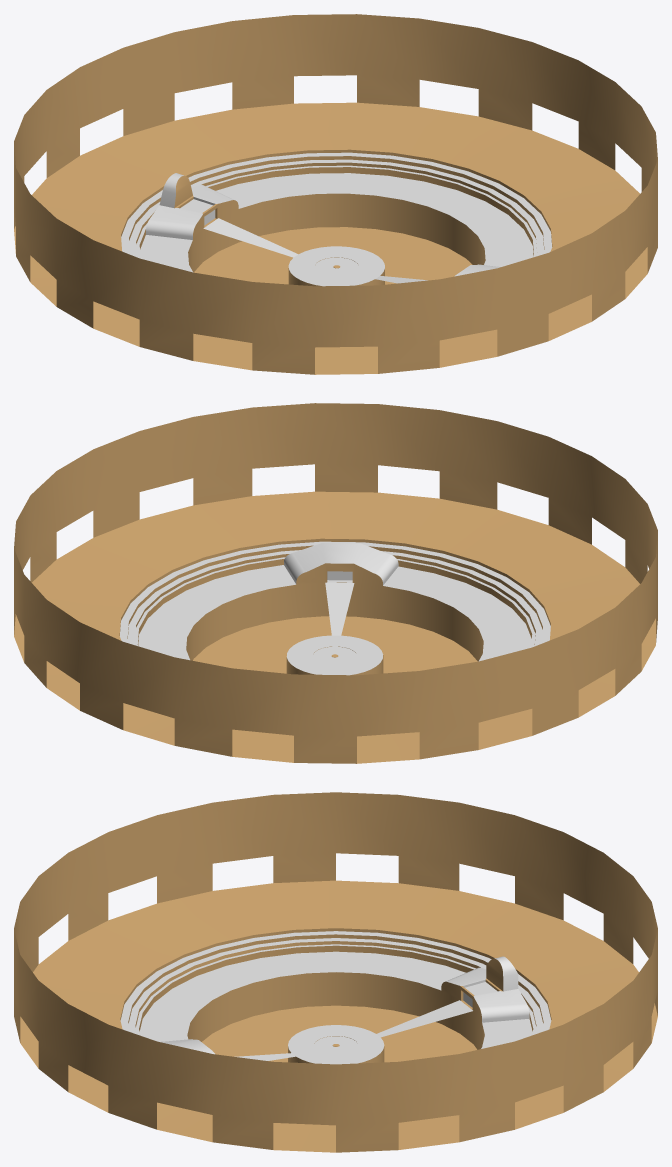
File: Gladiator.fbx
3 views of the same model, one above another, from view 1: azimuth 30°, elevation 25°; view 2: azimuth 150°, elevation 25°; view 3: azimuth 270°, elevation 25° (orthographic).
Parts seen in each view (by area): view 1: Gladiator; view 2: Gladiator; view 3: Gladiator.
Part boxes in pixels (<box>): Gladiator: <box>14,14,657,374</box>; Gladiator: <box>14,403,657,763</box>; Gladiator: <box>14,792,657,1152</box>.
Size of the model in its own units: 10016 by 2397 by 10016.
